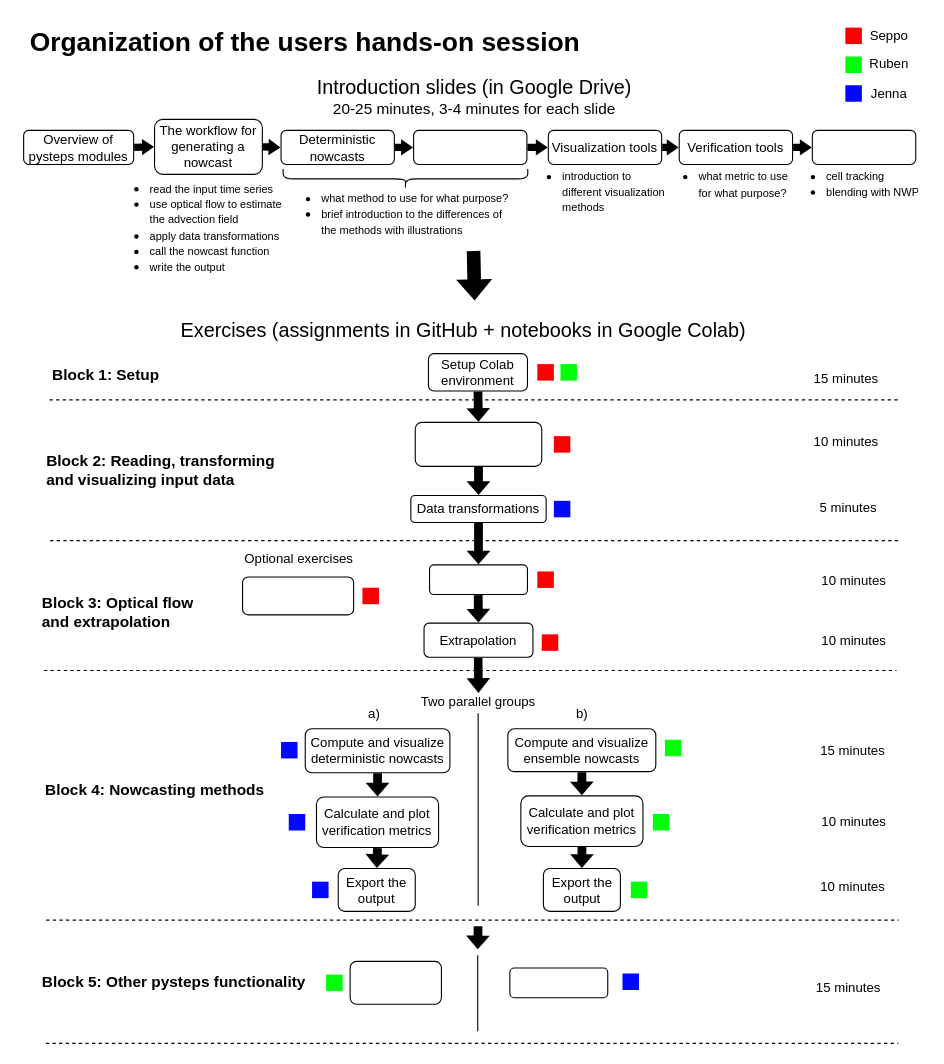
Image size: 944x1064. Some labels were removed from this diagram. The box of each missing label's shape, as (x1, y1, x2, y2) in pixels:
Advection-based interpolation: (241, 576, 354, 615)
Blending with NWP: (349, 960, 441, 1004)
Cell tracking: (509, 967, 608, 998)
Ensemble nowcasts: (413, 129, 527, 164)
More advanced functionality: (811, 129, 916, 164)
Optical flow: (428, 564, 527, 595)
Read and visualize input data: (414, 421, 542, 466)
